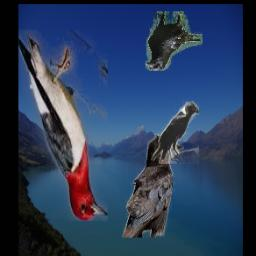Crow: (121, 133, 183, 238), (145, 11, 202, 71), (150, 100, 198, 165)
Woodpecker: (18, 31, 108, 222)
